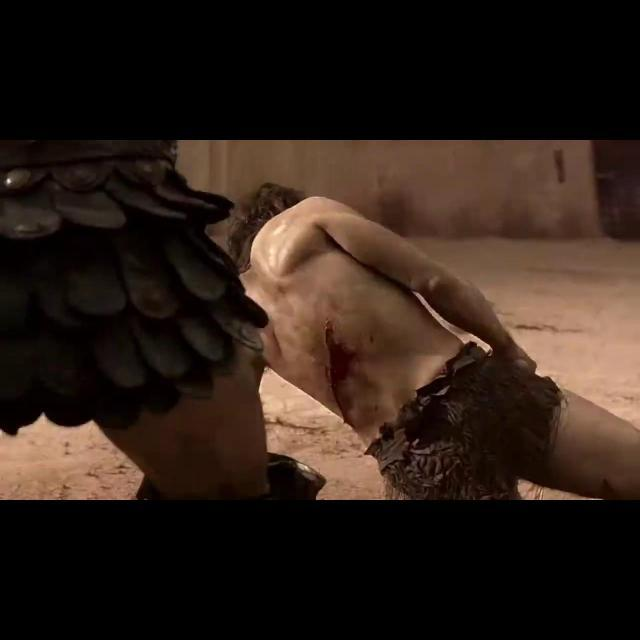blood: (325, 320, 357, 427)
